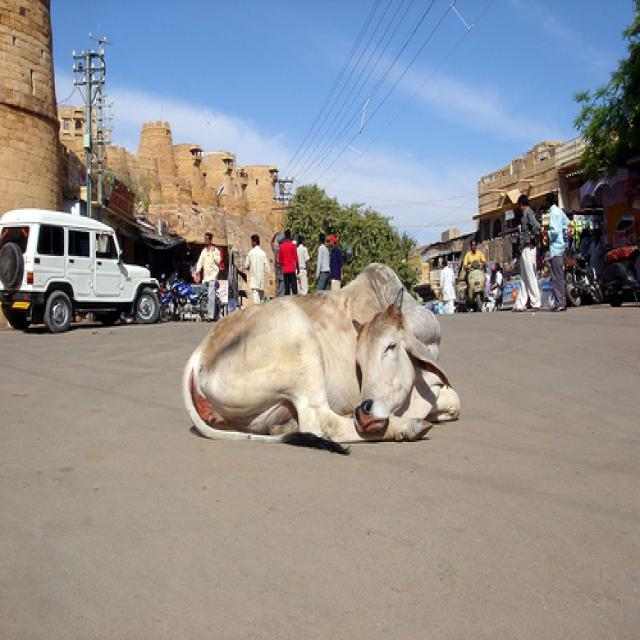motor: (160, 273, 220, 320), (598, 247, 640, 309), (565, 248, 604, 306), (463, 260, 484, 309)
